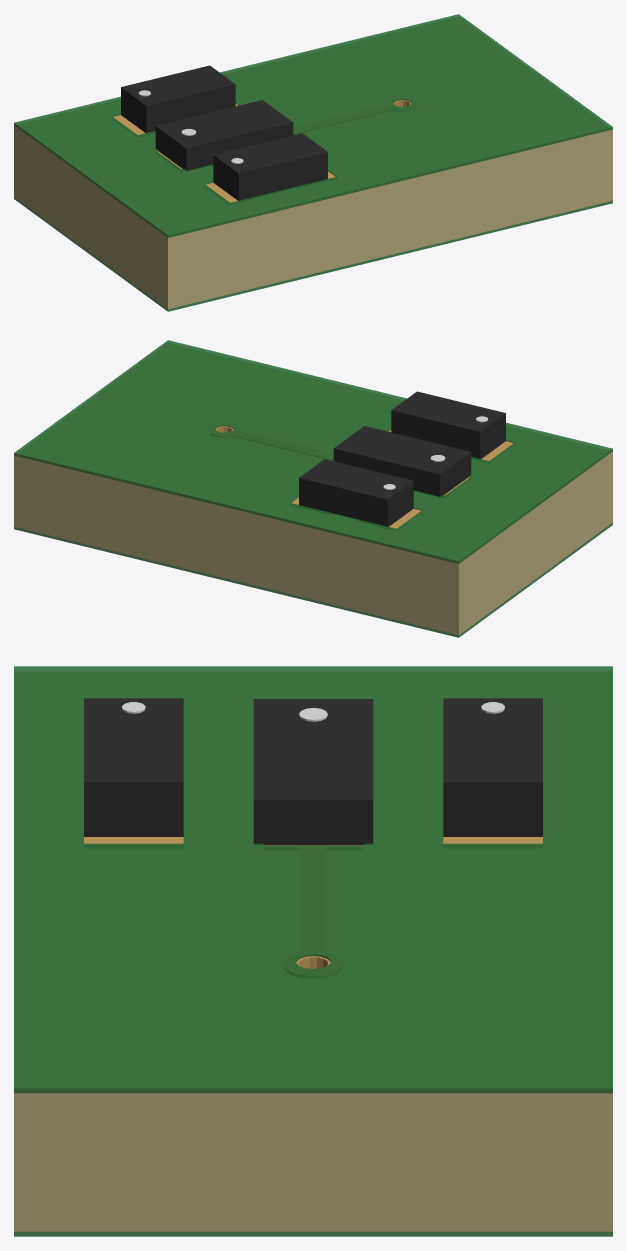
The model's file is bom-attributes.glb.
The picture shows the model from 3 angles, top to bottom: view 1: azimuth 30°, elevation 25°; view 2: azimuth 150°, elevation 25°; view 3: azimuth 270°, elevation 25°; orthographic projection. The views are drawn at different scales.
Visible parts, largest first — view 1: layer/@soldermask-top, layer/@core, R1, C1, J1, layer/@soldermask-bottom, layer/TOP; view 2: layer/@soldermask-top, layer/@core, R1, J1, C1, layer/@soldermask-bottom, layer/TOP; view 3: layer/@soldermask-top, layer/@core, R1, C1, J1, layer/@soldermask-bottom, layer/TOP.
Boxes of the visible parts, box(x1,y1,x2,y2) form: layer/@soldermask-top: box(14, 14, 612, 237); layer/@core: box(14, 18, 612, 309); R1: box(155, 100, 293, 170); C1: box(213, 133, 327, 200); J1: box(121, 65, 235, 132); layer/@soldermask-bottom: box(14, 197, 612, 311); layer/TOP: box(113, 98, 416, 204); layer/@soldermask-top: box(14, 340, 612, 563); layer/@core: box(14, 344, 612, 635); R1: box(333, 426, 471, 496); J1: box(299, 459, 413, 526); C1: box(391, 391, 505, 458); layer/@soldermask-bottom: box(14, 523, 612, 637); layer/TOP: box(210, 424, 513, 529); layer/@soldermask-top: box(14, 666, 612, 1093); layer/@core: box(14, 672, 612, 1231); R1: box(253, 699, 373, 845); C1: box(84, 698, 183, 836); J1: box(443, 698, 542, 836); layer/@soldermask-bottom: box(14, 1231, 612, 1236); layer/TOP: box(84, 837, 542, 978).
Bounding box in the file's own units: 0.01 × 0.00224 × 0.006.
